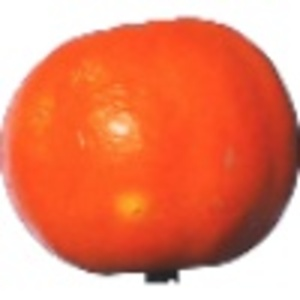tangerina: (1, 2, 300, 284)
